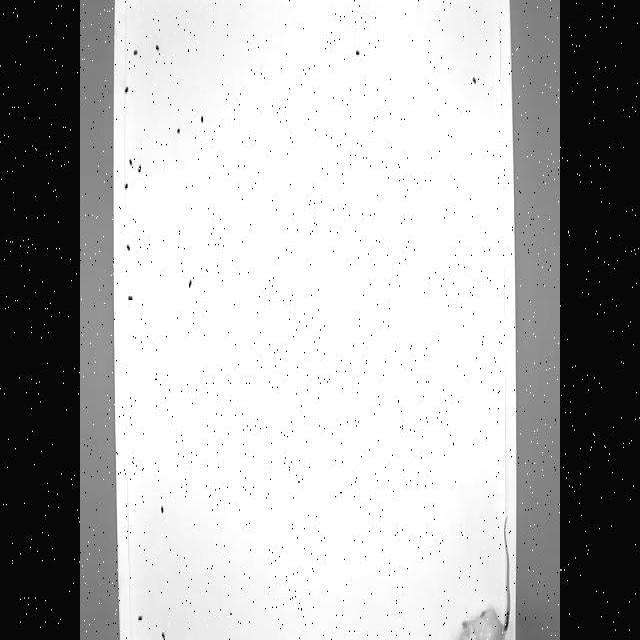rat: (450, 517, 515, 640)
